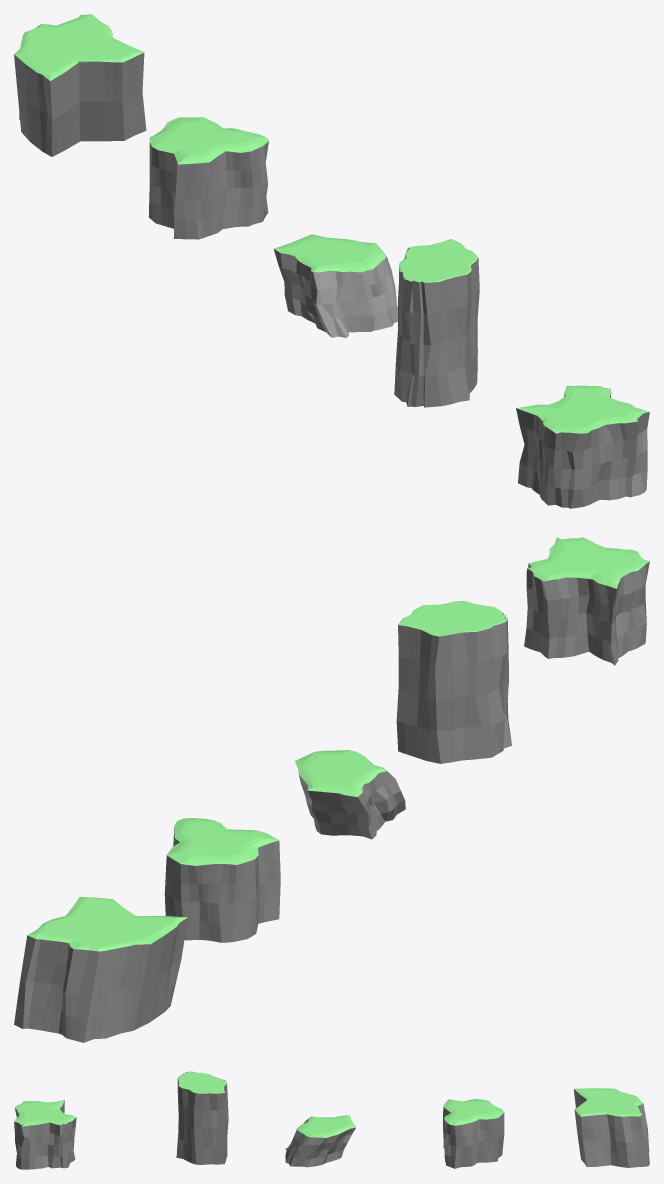
The model's file is CliffBlockers-5FIXED.fbx.
3 views of the same model, one above another, from view 1: azimuth 30°, elevation 25°; view 2: azimuth 150°, elevation 25°; view 3: azimuth 270°, elevation 25° (orthographic). The views are drawn at different scales.
Visible parts, largest first — view 1: Plane.002, Plane.005, Plane.001, Plane.003, Plane.004; view 2: Plane.002, Plane.001, Plane.005, Plane.003, Plane.004; view 3: Plane.002, Plane.001, Plane.005, Plane.003, Plane.004.
Boxes of the visible parts, left/top/right/bottom form: Plane.002: left=14, top=14, right=146, bottom=156; Plane.005: left=516, top=385, right=649, bottom=508; Plane.001: left=394, top=239, right=479, bottom=407; Plane.003: left=148, top=117, right=268, bottom=239; Plane.004: left=274, top=234, right=397, bottom=337; Plane.002: left=14, top=896, right=187, bottom=1042; Plane.001: left=396, top=601, right=511, bottom=763; Plane.005: left=524, top=537, right=649, bottom=665; Plane.003: left=164, top=818, right=280, bottom=942; Plane.004: left=295, top=750, right=405, bottom=839; Plane.002: left=574, top=1088, right=649, bottom=1167; Plane.001: left=176, top=1071, right=228, bottom=1164; Plane.005: left=14, top=1100, right=76, bottom=1169; Plane.003: left=443, top=1099, right=504, bottom=1168; Plane.004: left=285, top=1115, right=355, bottom=1167.
Size of the model in its own units: 2214 by 2200 by 17562.
